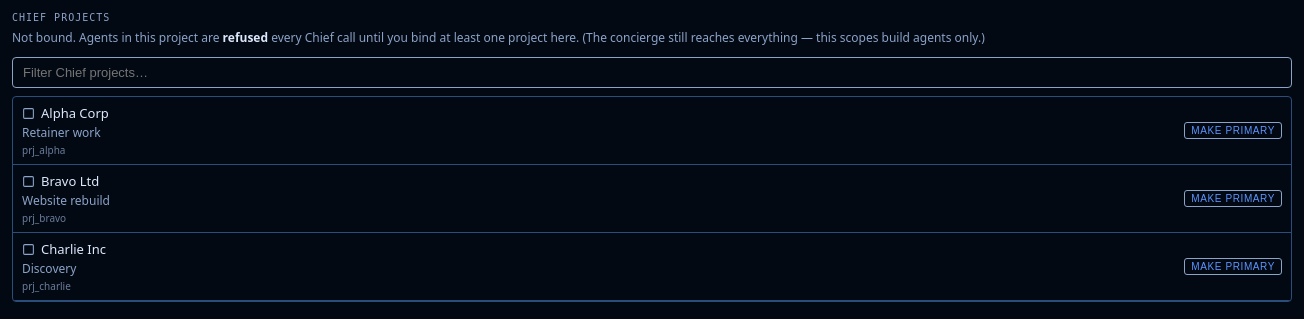
Scenario: ChiefBindingPicker — the filter › a filter that matches nothing says so — and is NOT the same message as an empty account
The image size is (1304, 319).
In the field with test id "chief-binding-filter": coordinates (652, 72) [12,57,1292,88], type "zzzz"
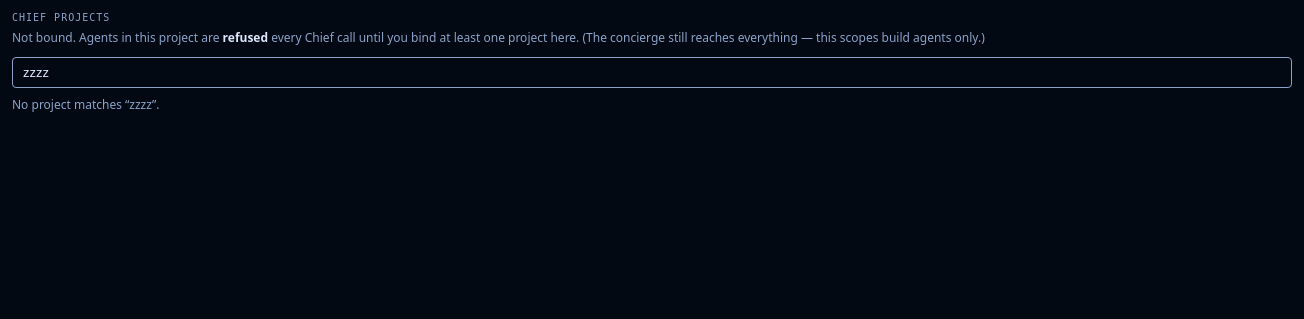
Result: the text with test id "chief-binding-empty" shows "No project matches" at [12,96,159,113]
